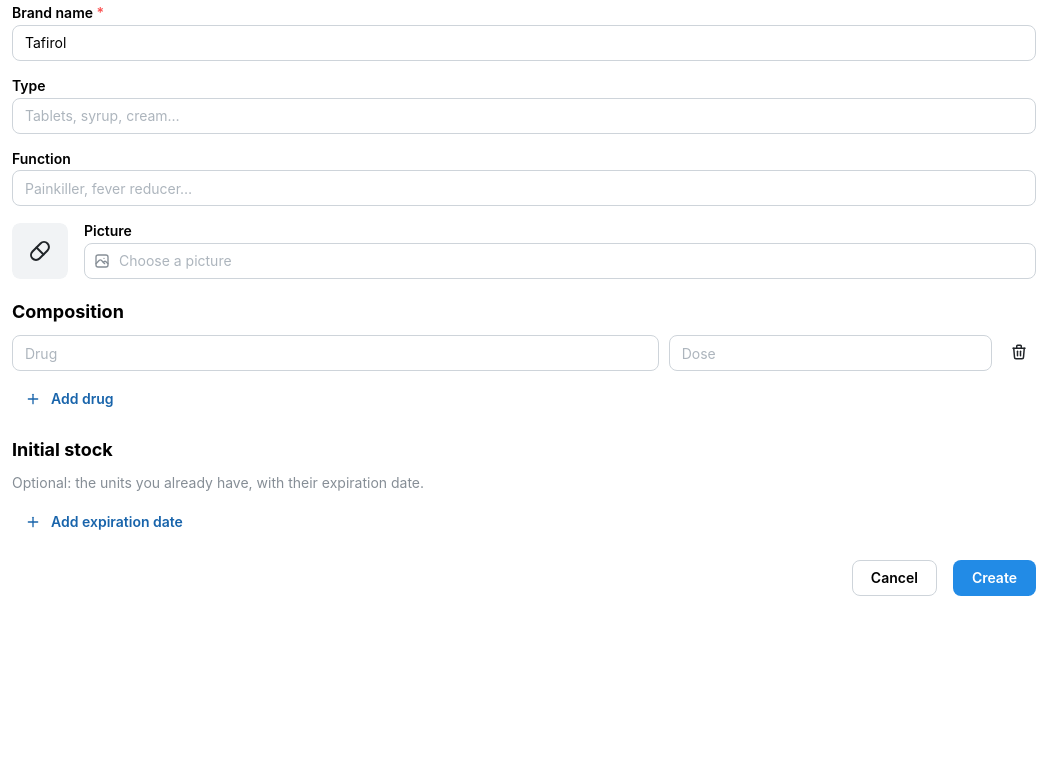
MedicationForm › shows why saving failed
Click the button "Create".
click(994, 578)  # box [953,560,1036,596]
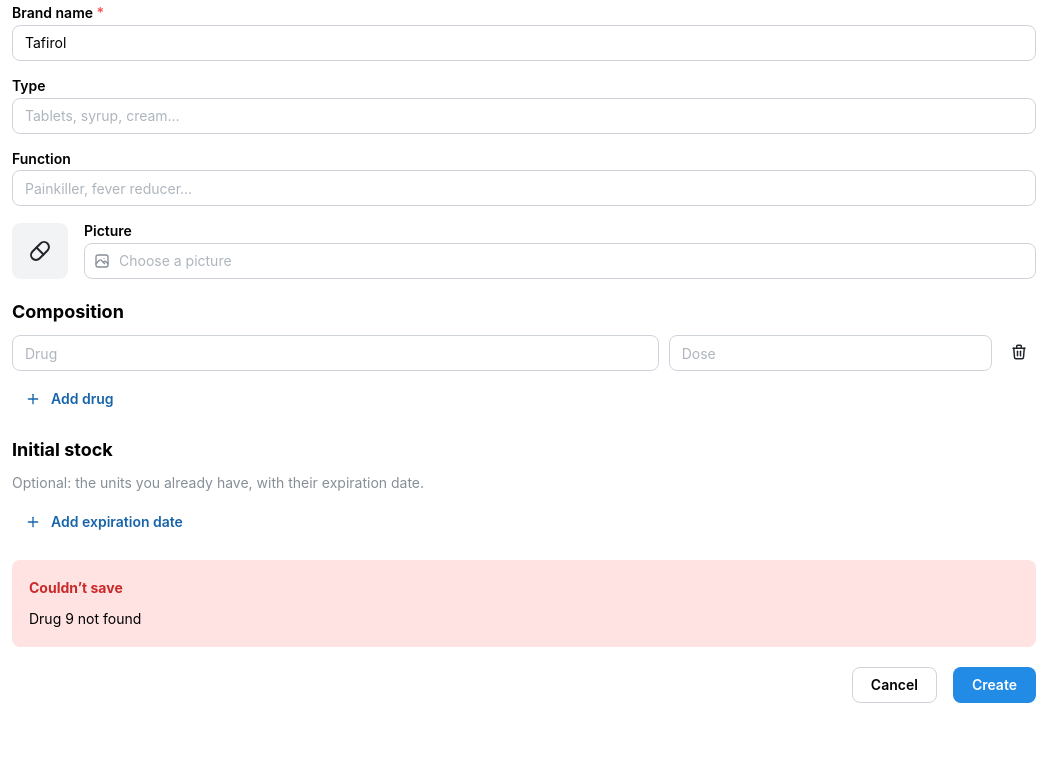
Check: the text "Drug 9 not found" is shown, box [29,610,141,627]
Check: the text "Couldn’t save" is shown, box [29,577,123,598]
